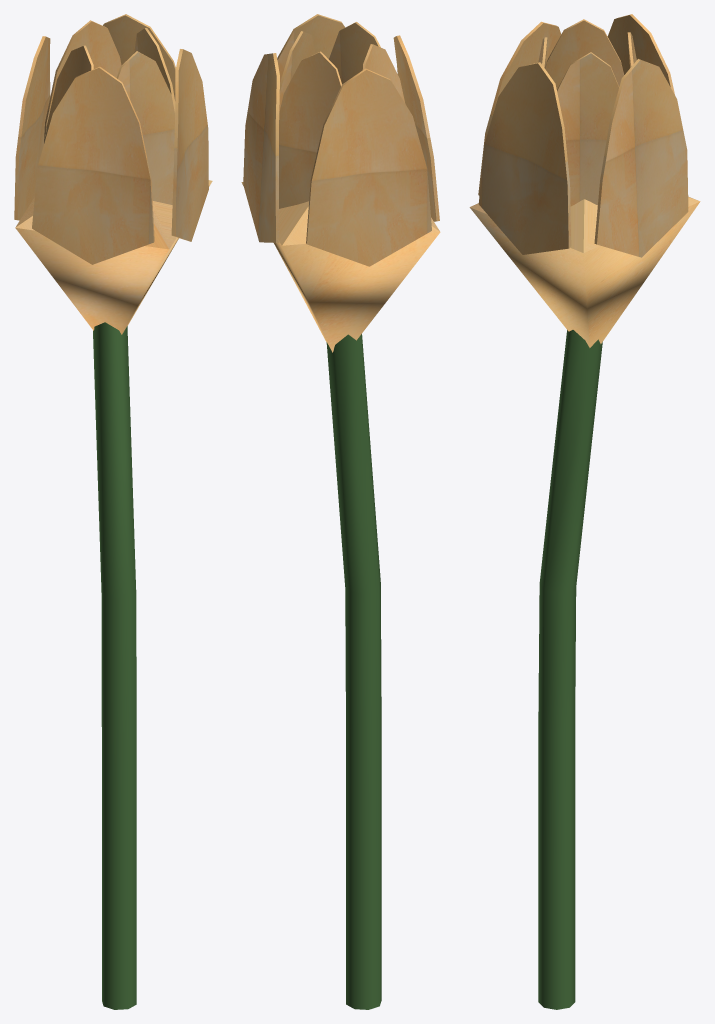
File: tulip_yellow.fbx
3 renders of one model, left to right at view 1: azimuth 30°, elevation 25°; view 2: azimuth 150°, elevation 25°; view 3: azimuth 270°, elevation 25°, orthographic. The views are drawn at different scales.
Parts seen in each view (by area): view 1: Petals, Stem, Ovale; view 2: Petals, Stem, Ovale; view 3: Petals, Stem, Ovale.
Part boxes in pixels (x1,y1,x2,y2): Petals: (14,14,208,264); Stem: (93,322,136,1009); Ovale: (15,180,212,334); Petals: (243,14,439,266); Stem: (326,334,381,1009); Ovale: (241,182,440,352); Petals: (478,14,688,257); Stem: (538,330,602,1009); Ovale: (469,196,700,347).
Bounding box in the file's own units: 10.78 × 50.1 × 10.78.
Materials: 3 (3 with a texture image).
